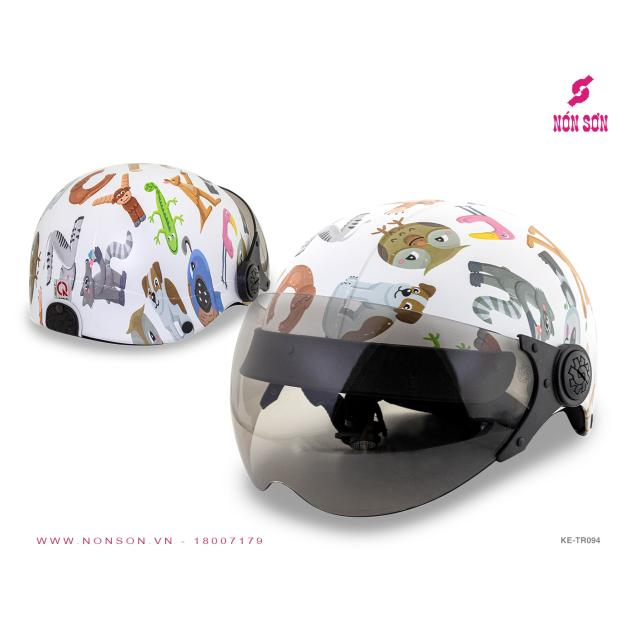Helmet: (228, 195, 600, 519)
